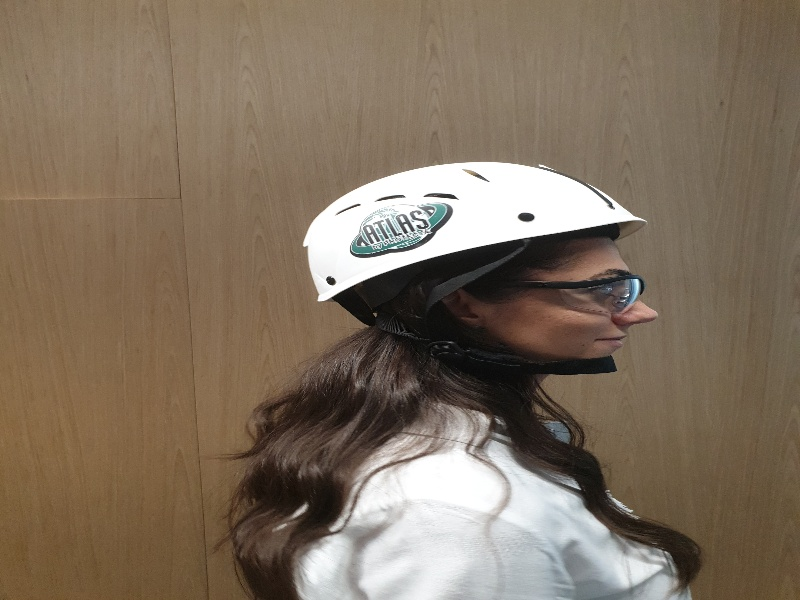Baret: (304, 163, 644, 278)
Gozluk: (453, 275, 646, 306)
